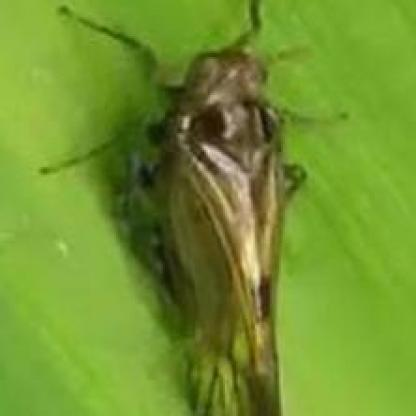brown-planthopper: (138, 37, 290, 416)
